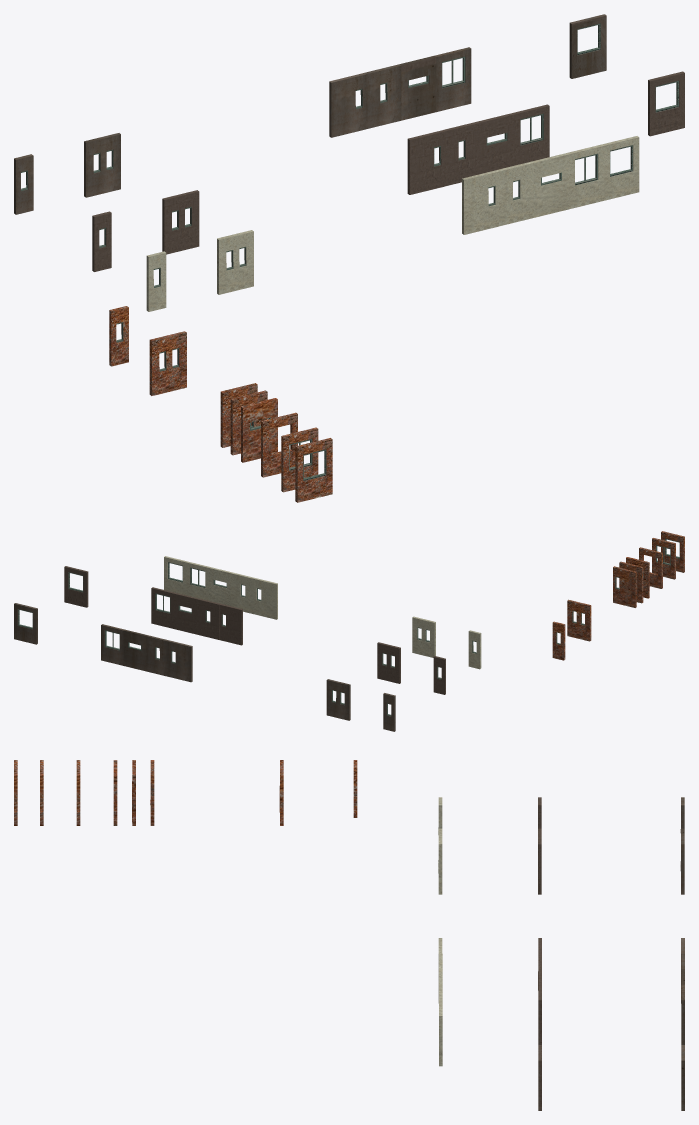
The model's file is wall with windows.fbx.
The picture shows the model from 3 angles, top to bottom: view 1: azimuth 30°, elevation 25°; view 2: azimuth 150°, elevation 25°; view 3: azimuth 270°, elevation 25°; orthographic projection. The views are drawn at different scales.
Visible parts, largest first — view 1: wall window.055, wall window.023, wall window.039, wall window.012, wall window.027, wall window.054, wall window.053, wall window.059, wall window.043, wall window.022, wall window.038, wall window.037 (+17 smaller); view 2: wall window.055, wall window.012, wall window.004, wall window.022, wall window.023, wall window.059, wall window.039, wall window.053, wall window.054, wall window.038, wall window.027, wall window.043 (+17 smaller); view 3: no part large enough to name.
Part boxes in pixels (x1=…): wall window.055: x1=329, y1=73, x2=366, y2=137; wall window.023: x1=407, y1=130, x2=444, y2=194; wall window.039: x1=462, y1=170, x2=498, y2=234; wall window.012: x1=149, y1=331, x2=186, y2=395; wall window.027: x1=162, y1=190, x2=199, y2=254; wall window.054: x1=364, y1=64, x2=401, y2=128; wall window.053: x1=399, y1=55, x2=436, y2=120; wall window.059: x1=84, y1=133, x2=120, y2=197; wall window.043: x1=217, y1=230, x2=253, y2=294; wall window.022: x1=443, y1=121, x2=479, y2=186; wall window.038: x1=497, y1=161, x2=533, y2=226; wall window.037: x1=532, y1=153, x2=568, y2=217; wall window.055: x1=168, y1=640, x2=192, y2=682; wall window.012: x1=567, y1=599, x2=591, y2=641; wall window.004: x1=613, y1=566, x2=636, y2=607; wall window.022: x1=196, y1=598, x2=219, y2=639; wall window.023: x1=219, y1=603, x2=242, y2=645; wall window.059: x1=326, y1=679, x2=350, y2=720; wall window.039: x1=254, y1=578, x2=277, y2=619; wall window.053: x1=123, y1=629, x2=146, y2=671; wall window.054: x1=146, y1=635, x2=169, y2=676; wall window.038: x1=231, y1=572, x2=254, y2=614; wall window.027: x1=377, y1=642, x2=400, y2=683; wall window.043: x1=412, y1=616, x2=435, y2=657.
Bounding box in the file's own units: 3851 × 300 × 3633.
